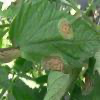Tomato leaf late blight: (1, 2, 99, 74)
